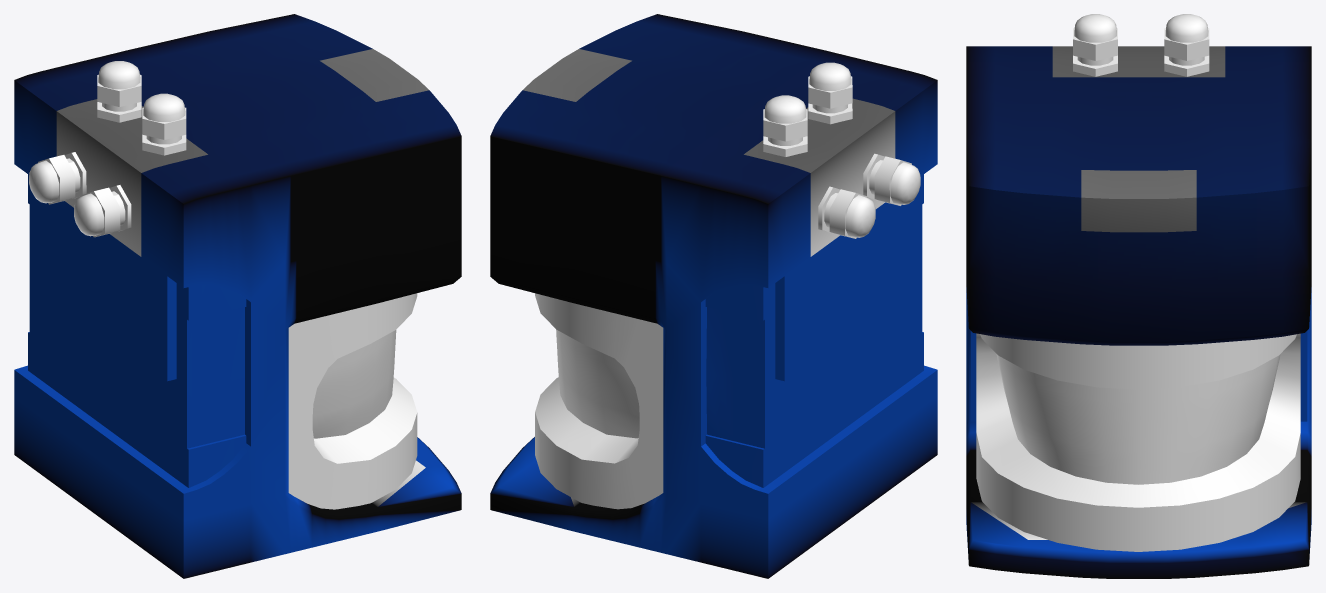
Rendered from LMS 200-30106.FBX.
3 views of the same model, side by side, from view 1: azimuth 30°, elevation 25°; view 2: azimuth 150°, elevation 25°; view 3: azimuth 270°, elevation 25° (orthographic).
Visible parts, largest first — view 1: LMS_200-30106; view 2: LMS_200-30106; view 3: LMS_200-30106.
Boxes of the visible parts, x1=… form: LMS_200-30106: x1=14, y1=14, x2=461, y2=578; LMS_200-30106: x1=490, y1=14, x2=937, y2=578; LMS_200-30106: x1=966, y1=14, x2=1311, y2=578.
Bounding box in the file's own units: 1.71 × 2 × 1.45.
